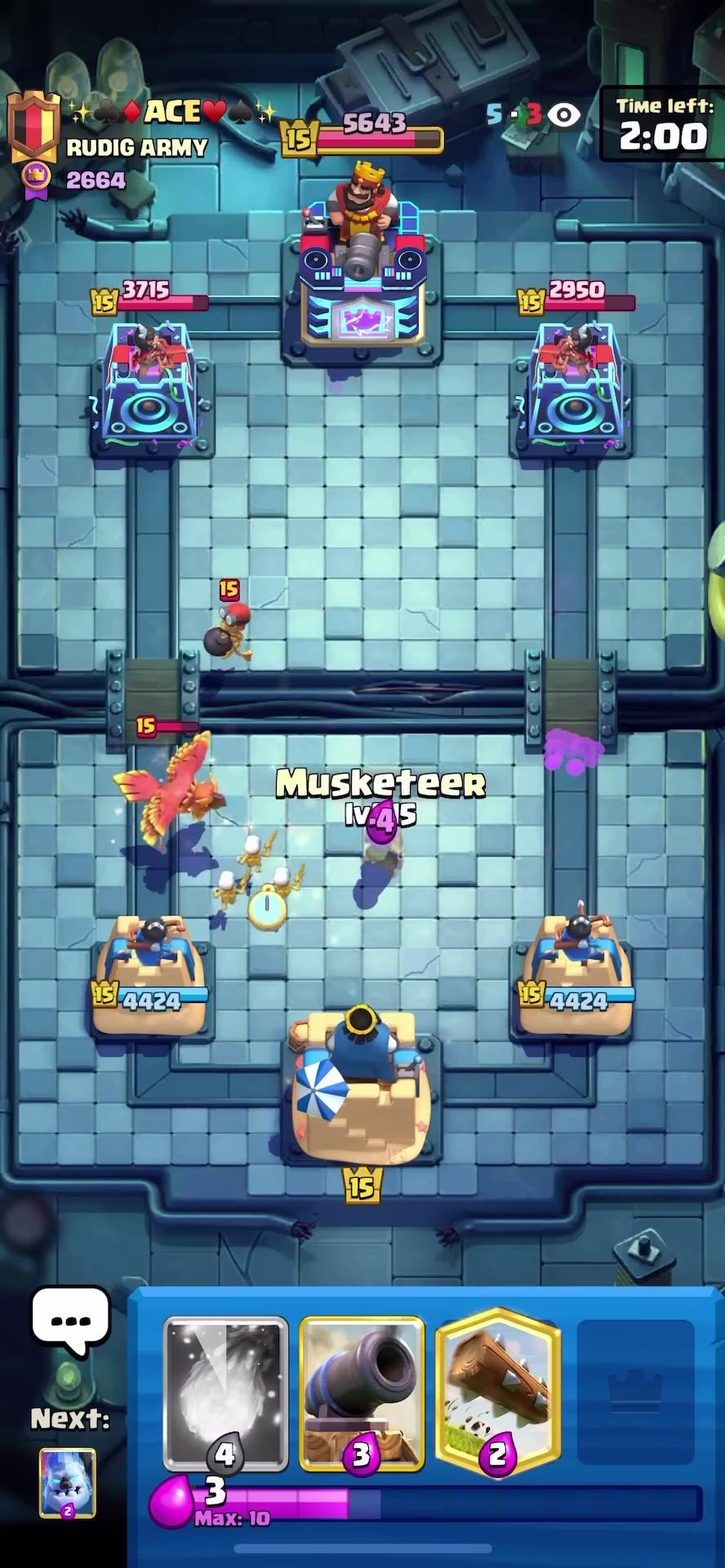skeletons: (204, 821, 302, 925)
